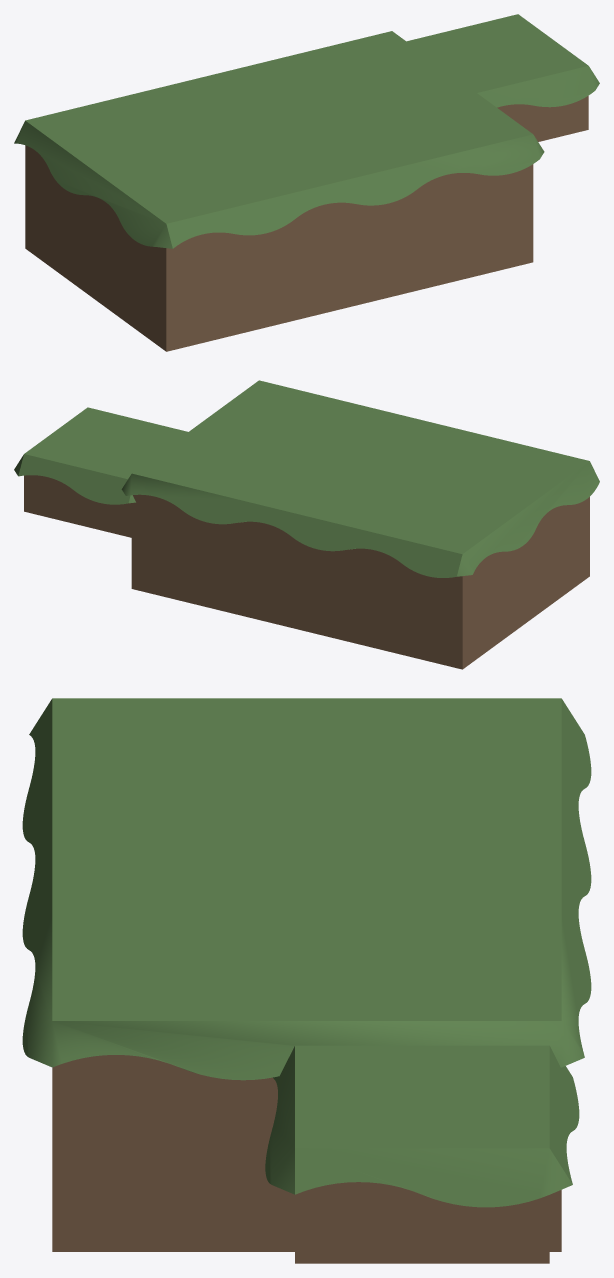
Rendered from wallgroup03_2.fbx.
3 views of the same model, one above another, from view 1: azimuth 30°, elevation 25°; view 2: azimuth 150°, elevation 25°; view 3: azimuth 270°, elevation 25° (orthographic). The views are drawn at different scales.
Visible parts, largest first — view 1: blockSnowLong.005, blockSnowHalf.003; view 2: blockSnowLong.005, blockSnowHalf.003; view 3: blockSnowLong.005, blockSnowHalf.003.
Part boxes in pixels (bbox=[...]): blockSnowLong.005: bbox=[14, 31, 544, 351]; blockSnowHalf.003: bbox=[407, 14, 599, 141]; blockSnowLong.005: bbox=[121, 380, 599, 669]; blockSnowHalf.003: bbox=[14, 407, 187, 537]; blockSnowLong.005: bbox=[22, 698, 591, 1251]; blockSnowHalf.003: bbox=[265, 1045, 579, 1263].
Size of the model in its own units: 4.24 by 1 by 2.23.
